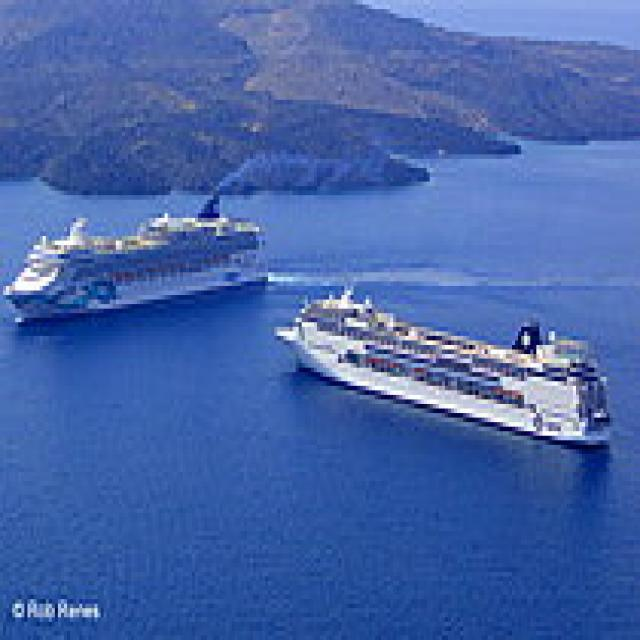Ship: (269, 278, 626, 460), (1, 196, 284, 332)
